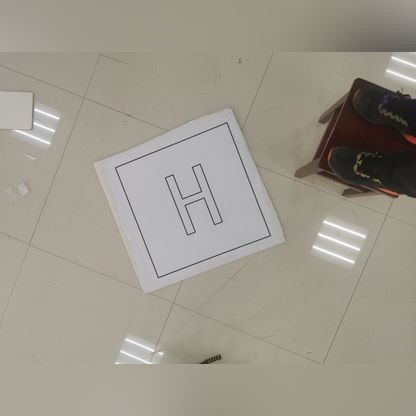H: (152, 156, 240, 254)
